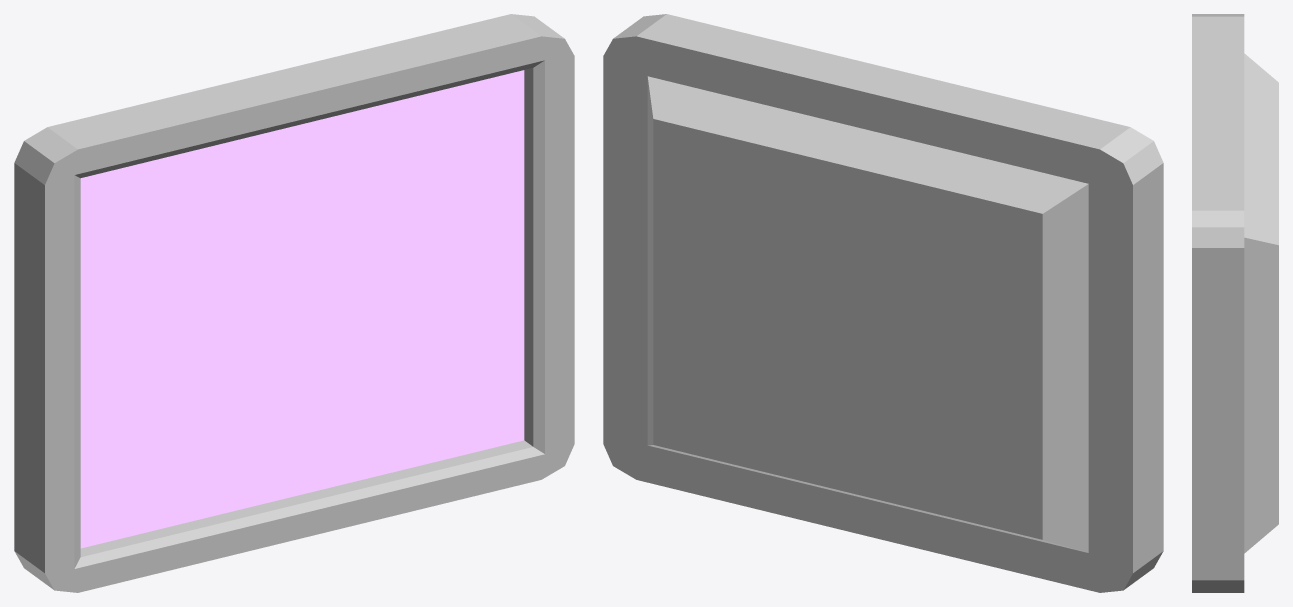
File: Tech_Monitor.fbx
3 views of the same model, side by side, from view 1: azimuth 30°, elevation 25°; view 2: azimuth 150°, elevation 25°; view 3: azimuth 270°, elevation 25° (orthographic). The views are drawn at different scales.
Visible parts, largest first — view 1: Tech_Monitor; view 2: Tech_Monitor; view 3: Tech_Monitor.
Boxes of the visible parts, x1,y1,x2,y2 form: Tech_Monitor: (14,14,574,592); Tech_Monitor: (603,14,1163,592); Tech_Monitor: (1192,14,1278,592).
Bounding box in the file's own units: 1 × 0.8 × 0.1659.
